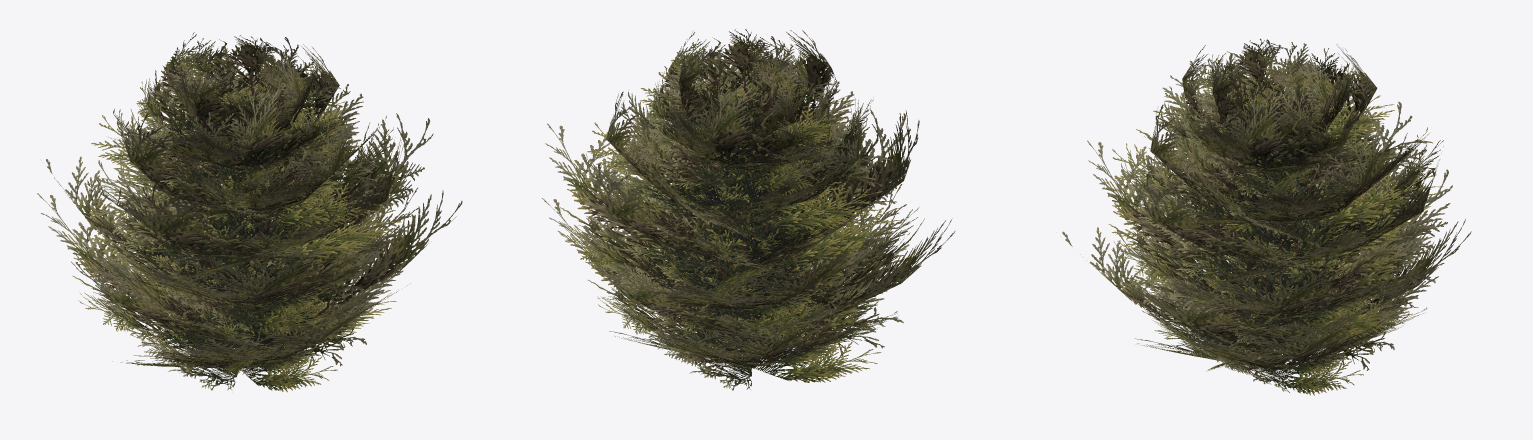
The model's file is manorBush_B.fbx.
3 views of the same model, side by side, from view 1: azimuth 30°, elevation 25°; view 2: azimuth 150°, elevation 25°; view 3: azimuth 270°, elevation 25° (orthographic).
Visible parts, largest first — view 1: manorBush_B; view 2: manorBush_B; view 3: manorBush_B.
Part boxes in pixels (x1=…): manorBush_B: x1=37, y1=32, x2=462, y2=392; manorBush_B: x1=542, y1=29, x2=954, y2=390; manorBush_B: x1=1062, y1=38, x2=1471, y2=395.
Bounding box in the file's own units: 9.85 × 7.68 × 10.09.
